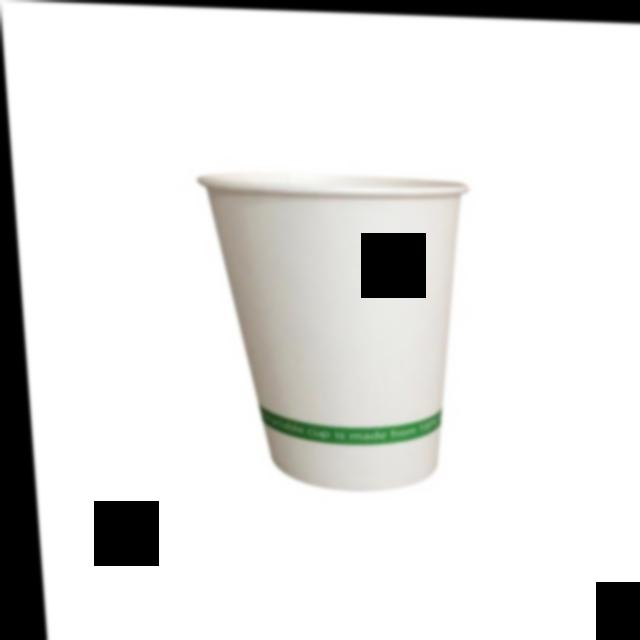karton-bardak: (170, 151, 512, 500)
